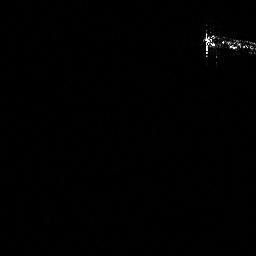ship: (205, 33, 256, 54)
